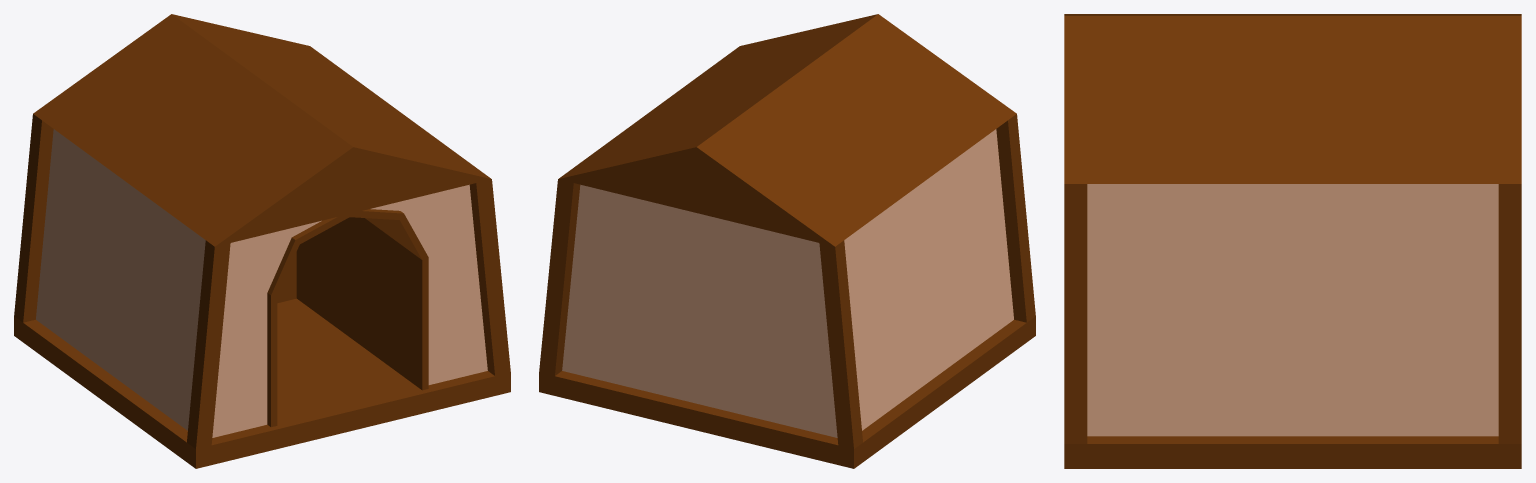
Rendered from storage_food.dae.
3 views of the same model, side by side, from view 1: azimuth 30°, elevation 25°; view 2: azimuth 150°, elevation 25°; view 3: azimuth 270°, elevation 25° (orthographic). The views are drawn at different scales.
Visible parts, largest first — view 1: SketchUp (×4); view 2: SketchUp (×3); view 3: SketchUp (×2).
Part boxes in pixels (<box>): SketchUp (×4): <box>14,14,510,468</box>; SketchUp (×3): <box>539,14,1035,468</box>; SketchUp (×2): <box>1064,14,1521,468</box>.
Bounding box in the file's own units: 197 × 197 × 169.
